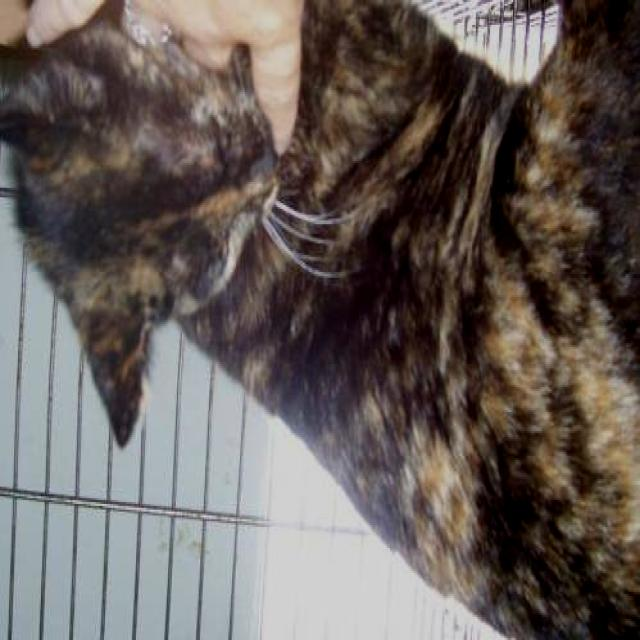Kucing: (13, 11, 632, 549)
